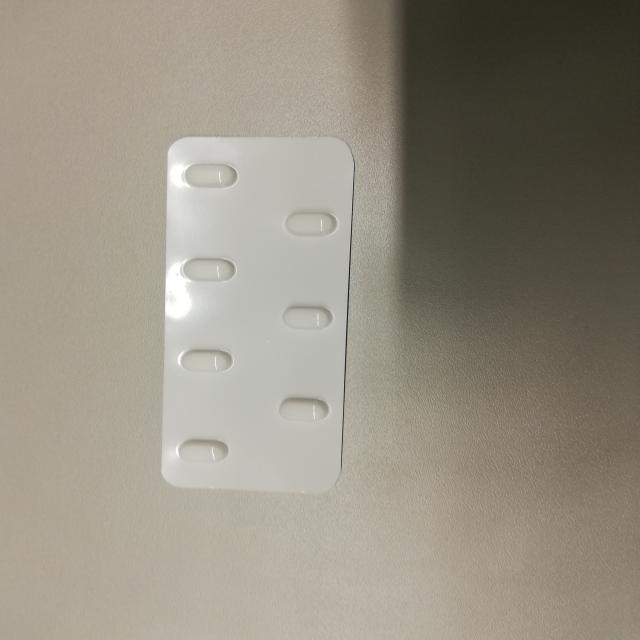Pill: (268, 387, 339, 432), (176, 247, 246, 292), (168, 429, 234, 476), (170, 338, 242, 379), (172, 153, 243, 194), (268, 296, 340, 335), (274, 203, 348, 240)
